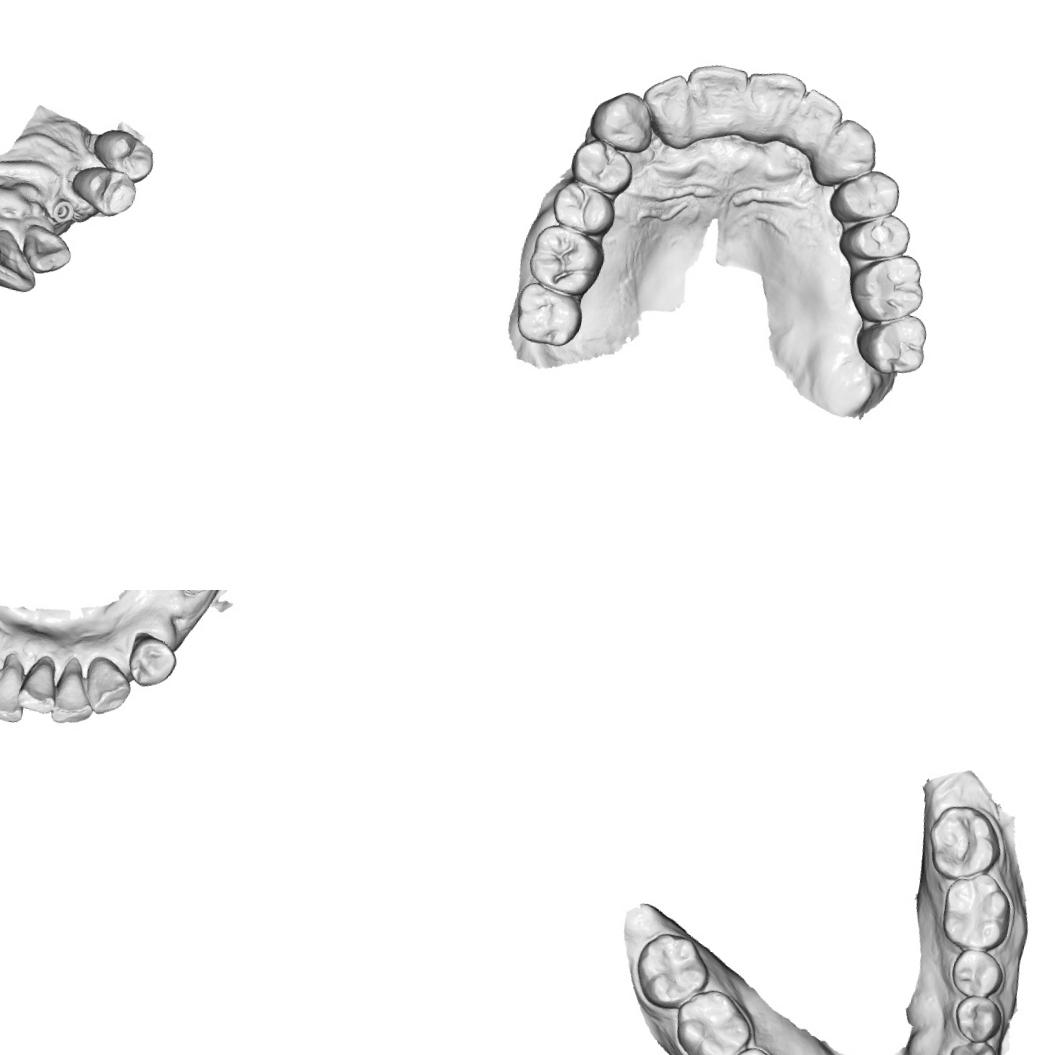canine: (810, 112, 882, 192), (584, 84, 659, 156), (80, 653, 136, 718), (943, 1035, 1000, 1055)
implant: (47, 196, 77, 227)
implant_minus: (171, 590, 218, 599)
incisor: (678, 57, 750, 144), (736, 64, 808, 150), (633, 68, 700, 150), (47, 652, 102, 728), (790, 86, 846, 158), (16, 221, 76, 279), (13, 651, 62, 715), (0, 223, 44, 294), (0, 645, 33, 724)
molar: (628, 926, 716, 1016), (920, 799, 1008, 887), (935, 866, 1018, 957), (842, 244, 930, 329), (524, 219, 608, 300), (667, 981, 758, 1055), (850, 306, 931, 380), (510, 278, 587, 350)
premolar: (825, 162, 902, 231), (834, 205, 914, 269), (547, 174, 622, 238), (566, 134, 637, 198), (66, 160, 139, 220), (87, 124, 158, 185), (946, 944, 1008, 1001), (123, 630, 180, 690), (949, 990, 1006, 1046), (721, 1041, 780, 1055)
